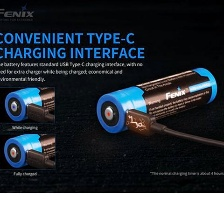battery: (92, 63, 219, 137), (1, 125, 85, 170), (2, 75, 84, 120)
